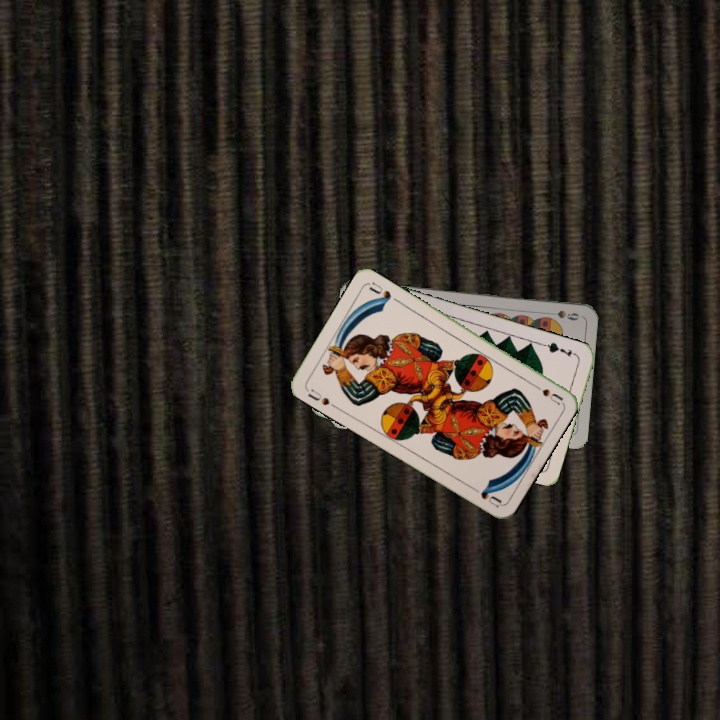G7: (540, 338, 579, 360)
S9: (542, 306, 581, 323)
SU: (527, 378, 565, 407), (303, 385, 339, 411)
